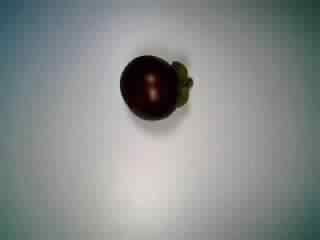mangosteen: (118, 49, 195, 126)
